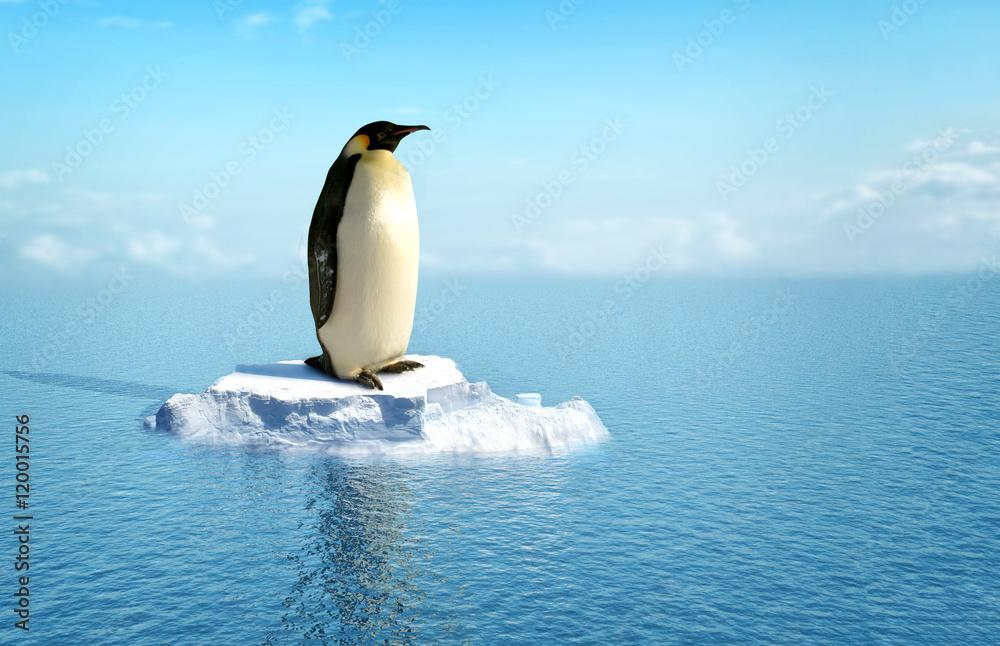king: (246, 53, 467, 432)
